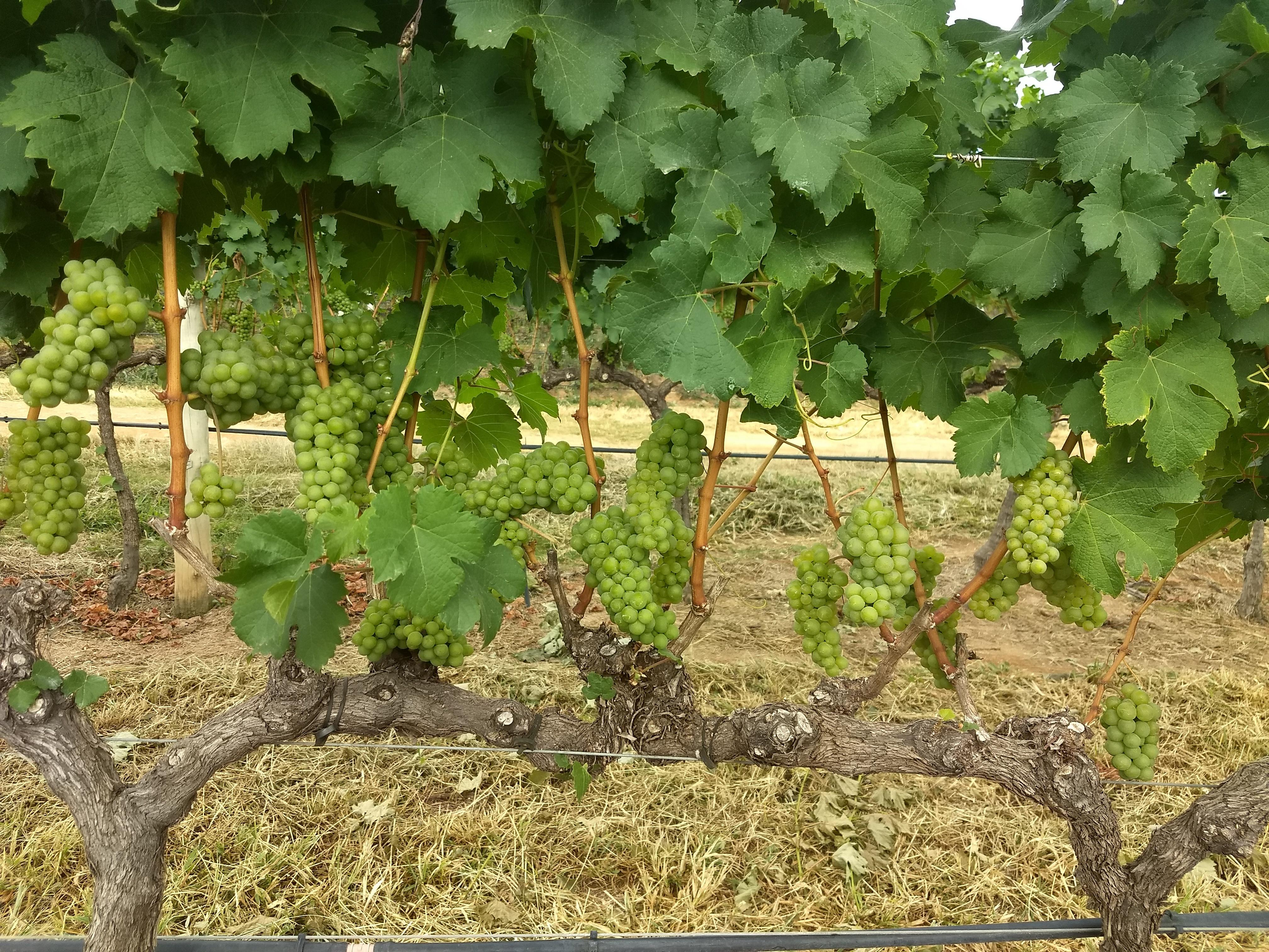leaf: (0, 34, 199, 241), (330, 49, 541, 233), (138, 0, 377, 160), (447, 0, 634, 134), (607, 235, 750, 398), (1101, 314, 1238, 471), (652, 110, 773, 280), (1065, 447, 1201, 595), (1049, 54, 1199, 180), (870, 297, 1018, 419), (815, 116, 933, 263), (586, 62, 697, 209), (751, 58, 870, 195), (367, 484, 487, 617), (1176, 152, 1268, 314), (824, 0, 952, 110), (1078, 168, 1188, 290), (967, 181, 1080, 299), (764, 196, 873, 291), (708, 7, 803, 116), (905, 165, 997, 271), (438, 545, 527, 645), (948, 391, 1051, 477), (410, 306, 500, 393), (738, 285, 802, 407), (631, 0, 734, 75), (1016, 283, 1112, 360), (285, 563, 348, 670), (807, 340, 867, 417), (513, 372, 559, 438), (316, 502, 365, 563), (1216, 2, 1268, 54), (0, 124, 35, 193), (0, 56, 31, 101), (686, 0, 694, 3), (398, 344, 405, 347), (1265, 11, 1268, 13), (190, 169, 194, 170), (194, 166, 196, 168), (522, 265, 522, 266), (191, 143, 191, 144)
